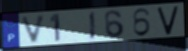1: (49, 12, 62, 43)
6: (104, 9, 127, 39), (132, 7, 152, 38)
I: (89, 10, 97, 41)
V: (20, 14, 48, 45), (156, 4, 180, 36)
